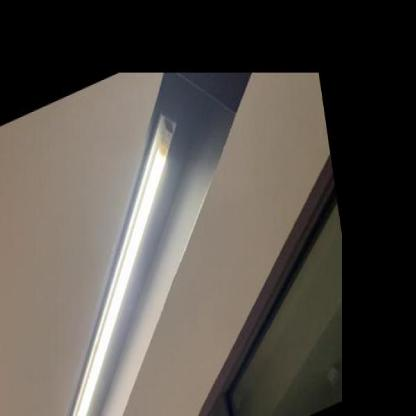light_on: (5, 95, 222, 415)
